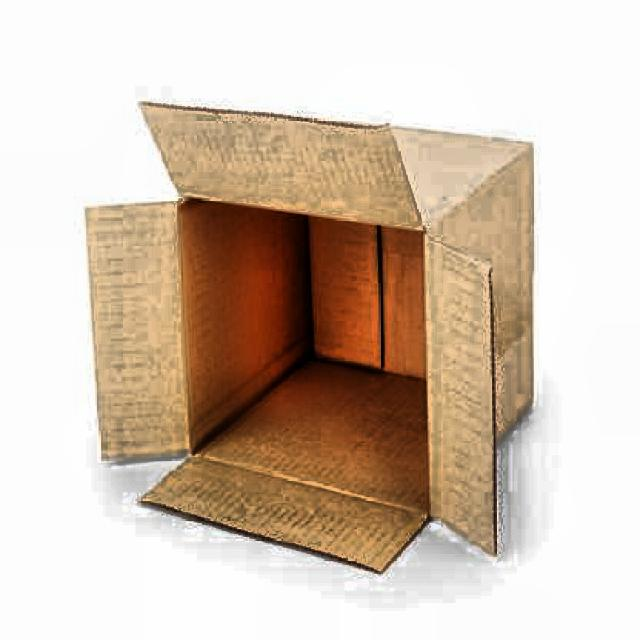Cardbox: (62, 98, 582, 590)
